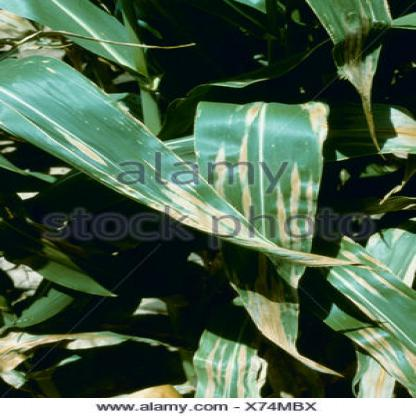Corn leaf blight: (4, 53, 348, 266), (196, 91, 337, 380)
